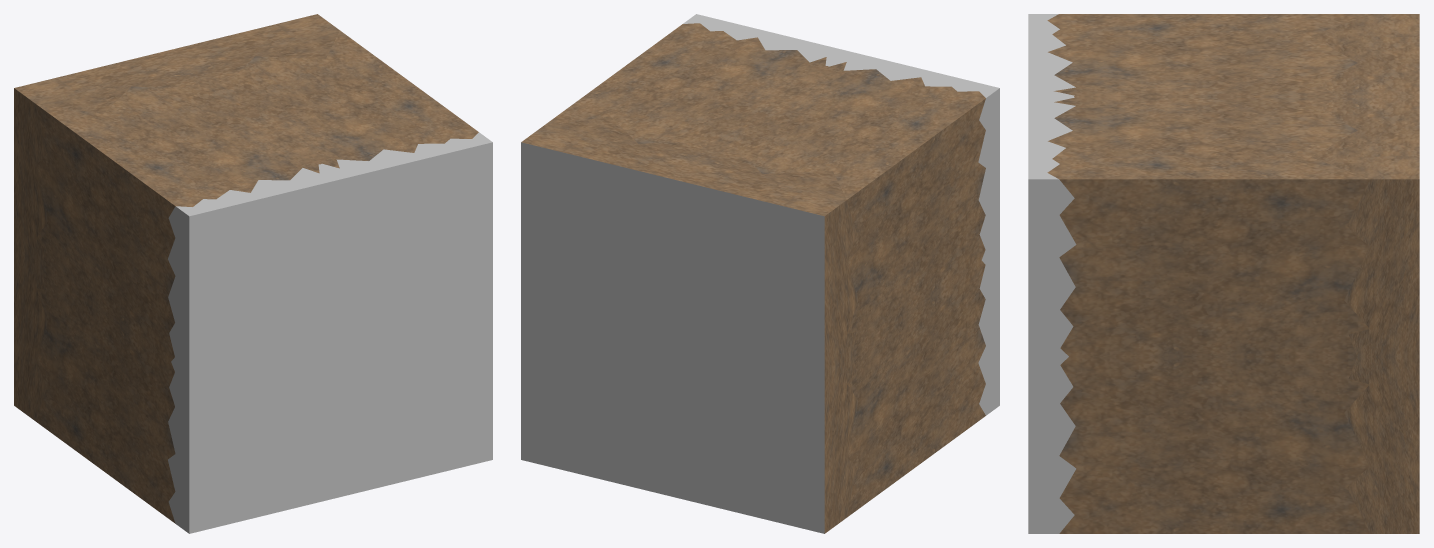
Rendered from GrassSquarePlatform.fbx.
3 renders of one model, left to right at view 1: azimuth 30°, elevation 25°; view 2: azimuth 150°, elevation 25°; view 3: azimuth 270°, elevation 25°, orthographic. The views are drawn at different scales.
Visible parts, largest first — view 1: GrassSquarePlatform; view 2: GrassSquarePlatform; view 3: GrassSquarePlatform.
Boxes of the visible parts, x1=… form: GrassSquarePlatform: x1=14, y1=14, x2=492, y2=533; GrassSquarePlatform: x1=521, y1=14, x2=999, y2=533; GrassSquarePlatform: x1=1028, y1=14, x2=1419, y2=533.
Bounding box in the file's own units: 2 × 2 × 2.
